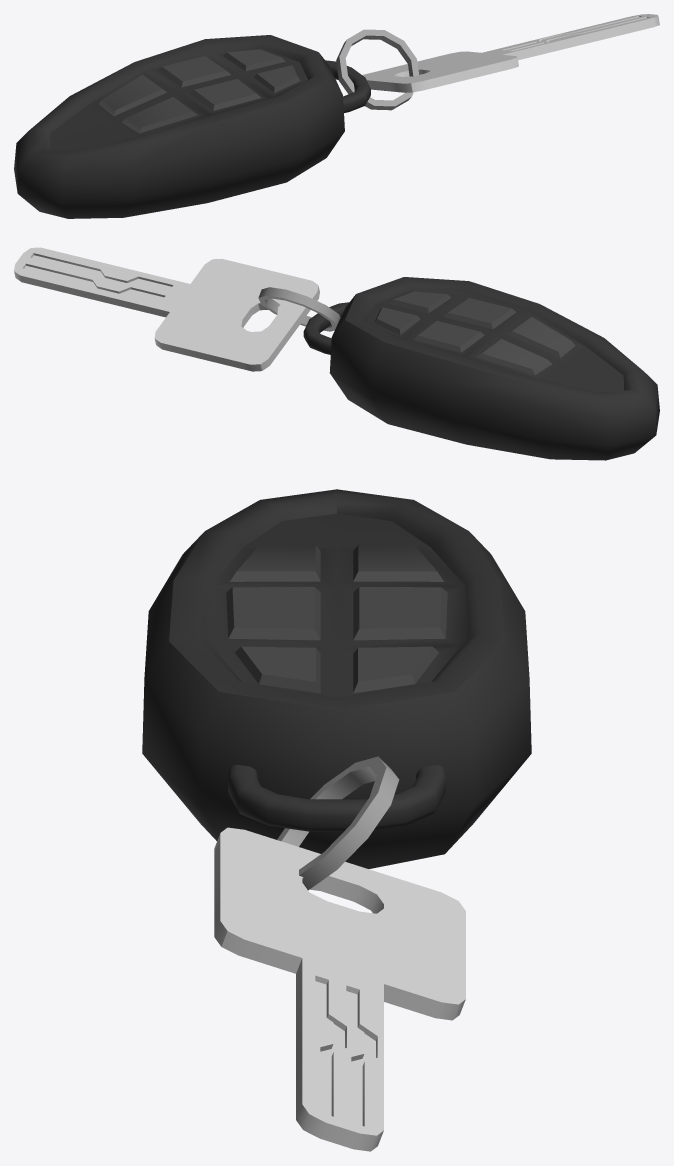
File: anahtar.fbx
3 views of the same model, one above another, from view 1: azimuth 30°, elevation 25°; view 2: azimuth 150°, elevation 25°; view 3: azimuth 270°, elevation 25° (orthographic). The views are drawn at different scales.
Parts seen in each view (by area): view 1: anahtar; view 2: anahtar; view 3: anahtar.
Boxes of the visible parts, x1,y1,x2,y2 form: anahtar: (14,14,659,218); anahtar: (14,247,659,460); anahtar: (142,489,531,1151).
Size of the model in its own units: 83.41 by 13.21 by 22.13.
